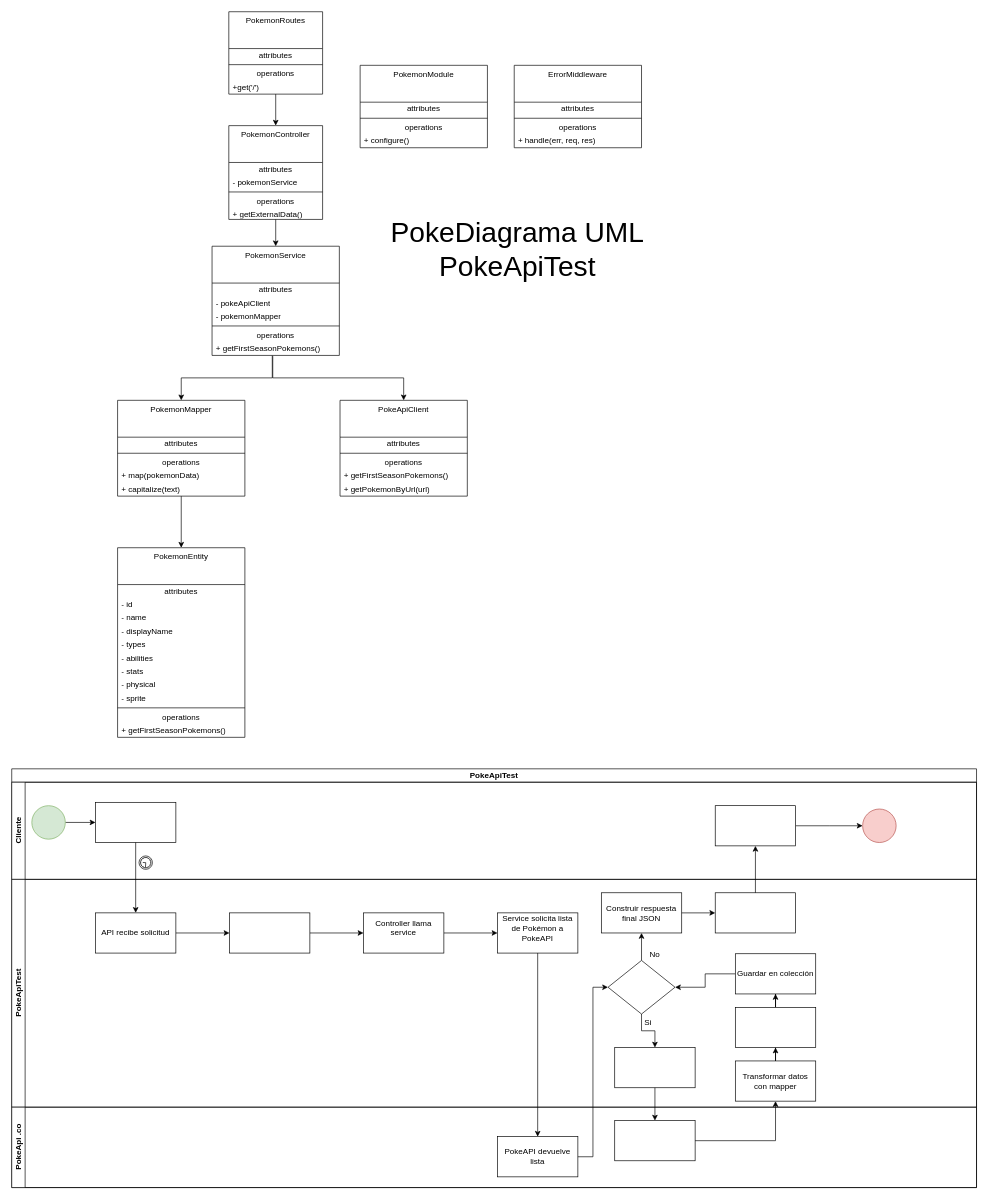
Image size: 988x1199. Some labels were removed from this diagram. The shapes that lost their labels are listed below. From the top down, each one's centre as x and y in pixels, then its label:
At point (48, 822): "inicio".
At point (135, 822): "Cliente envía GET /external-data".
At point (755, 825): "Cliente visualiza Json".
At point (879, 825): "Fin".
At point (269, 932): "API enruta a controller".
At point (755, 912): "Responder al cliente]".
At point (641, 987): "¿Hay Pokémon por procesar?".
At point (775, 1027): "Crear entidad Pokémon".
At point (654, 1067): "Solicitar detalle de Pokémon a PokeAPI".
At point (654, 1140): "PokeAPI devuelve detalle".
